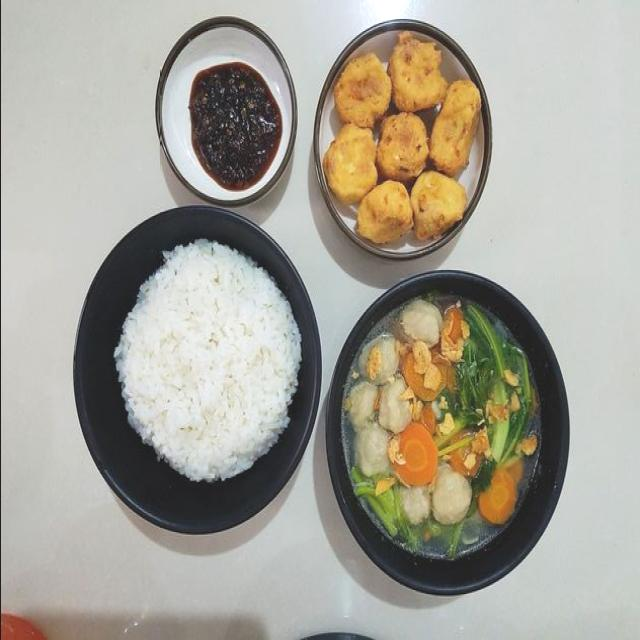nasi: (110, 236, 302, 482)
sop: (337, 290, 539, 590)
